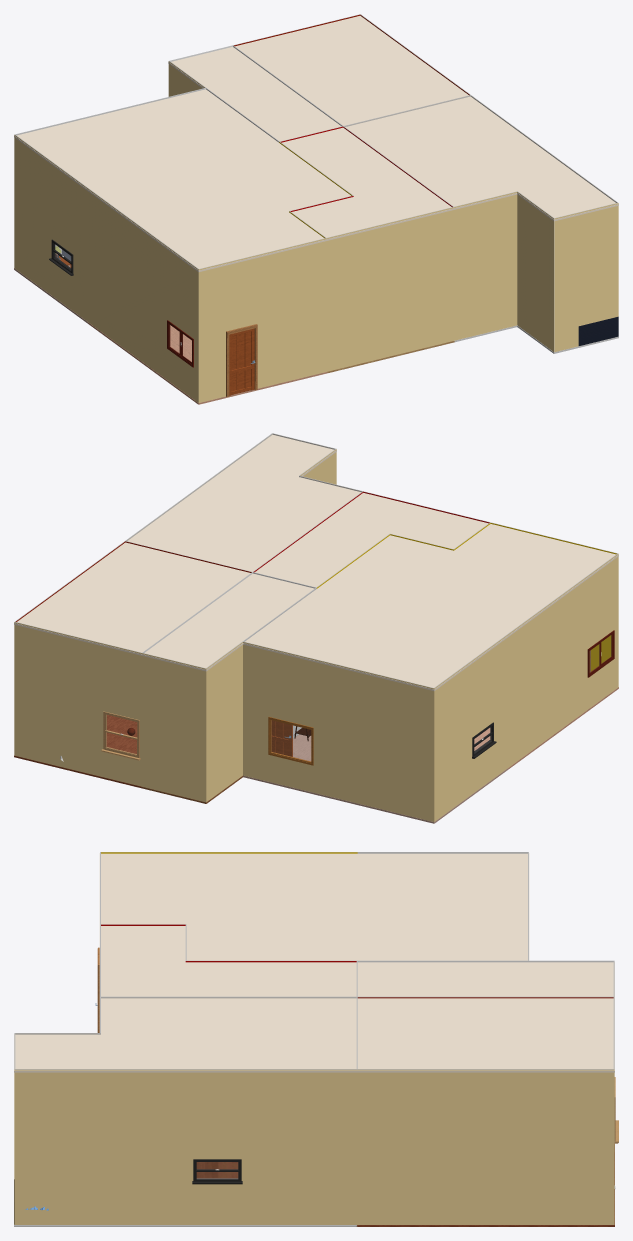
Rendered from ProcTHOR-Train-90.glb.
The picture shows the model from 3 angles, top to bottom: view 1: azimuth 30°, elevation 25°; view 2: azimuth 150°, elevation 25°; view 3: azimuth 270°, elevation 25°; orthographic projection. The views are drawn at different scales.
Parts seen in each view (by area): view 1: Ceiling#room|8|c, WallInside#wall|exterior|4.32|12.95|8.63|12.95, Ceiling#room|6|c, WallInside#wall|exterior|8.63|12.95|12.95|12.95, WallInside#wall|exterior|12.95|6.48|12.95|12.95, Ceiling#room|9|c, Ceiling#room|4|c, WallInside#wall|exterior|12.95|2.16|12.95|6.48, Ceiling#room|7|c, WallInside#wall|exterior|2.16|12.95|4.32|12.95, WallInside#wall|exterior|0.00|15.11|2.16|15.11, Ceiling#room|5|c (+5 smaller); view 2: WallInside#wall|exterior|6.48|2.16|12.95|2.16, Ceiling#room|8|c, Ceiling#room|6|c, WallInside#wall|exterior|0.00|0.00|4.32|0.00, Ceiling#room|9|c, WallInside#wall|exterior|12.95|6.48|12.95|12.95, Ceiling#room|4|c, WallInside#wall|exterior|12.95|2.16|12.95|6.48, Ceiling#room|7|c, WallInside#wall|exterior|4.32|0.00|6.48|0.00, Ceiling#room|5|c, WallInside#wall|exterior|6.48|0.00|6.48|2.16 (+7 smaller); view 3: WallInside#wall|exterior|0.00|6.48|0.00|15.11, WallInside#wall|exterior|0.00|0.00|0.00|6.48, Ceiling#room|8|c, Ceiling#room|6|c, Ceiling#room|4|c, Ceiling#room|9|c, Ceiling#room|7|c, Ceiling#room|5|c, Window_Hung_48x24, Floor#room|6|f, Dining_Table_223_1, Floor#room|4|f (+5 smaller).
Part boxes in pixels (x1,y1,x2,y2): Ceiling#room|8|c: (87, 143, 350, 272); WallInside#wall|exterior|4.32|12.95|8.63|12.95: (326, 207, 454, 371); Ceiling#room|6|c: (345, 96, 618, 221); WallInside#wall|exterior|8.63|12.95|12.95|12.95: (198, 238, 326, 402); WallInside#wall|exterior|12.95|6.48|12.95|12.95: (88, 188, 198, 402); Ceiling#room|9|c: (14, 89, 278, 190); Ceiling#room|4|c: (235, 15, 468, 126); WallInside#wall|exterior|12.95|2.16|12.95|6.48: (14, 134, 88, 321); Ceiling#room|7|c: (282, 127, 454, 240); WallInside#wall|exterior|2.16|12.95|4.32|12.95: (453, 191, 517, 340); WallInside#wall|exterior|0.00|15.11|2.16|15.11: (554, 203, 618, 352); Ceiling#room|5|c: (168, 47, 340, 141); WallInside#wall|exterior|6.48|2.16|12.95|2.16: (243, 641, 434, 821); Ceiling#room|8|c: (318, 524, 618, 636); Ceiling#room|6|c: (127, 434, 362, 571); WallInside#wall|exterior|0.00|0.00|4.32|0.00: (14, 622, 142, 786); Ceiling#room|9|c: (243, 588, 507, 691); WallInside#wall|exterior|12.95|6.48|12.95|12.95: (508, 553, 618, 767); Ceiling#room|4|c: (14, 542, 250, 655); WallInside#wall|exterior|12.95|2.16|12.95|6.48: (434, 634, 507, 821); Ceiling#room|7|c: (255, 493, 488, 588); WallInside#wall|exterior|4.32|0.00|6.48|0.00: (142, 653, 206, 802); Ceiling#room|5|c: (141, 573, 316, 671); WallInside#wall|exterior|6.48|0.00|6.48|2.16: (206, 642, 242, 801); WallInside#wall|exterior|0.00|6.48|0.00|15.11: (14, 1069, 357, 1224); WallInside#wall|exterior|0.00|0.00|0.00|6.48: (357, 1069, 614, 1224); Ceiling#room|8|c: (99, 853, 357, 961); Ceiling#room|6|c: (14, 998, 356, 1072); Ceiling#room|4|c: (356, 998, 614, 1072); Ceiling#room|9|c: (356, 853, 529, 960); Ceiling#room|7|c: (99, 926, 357, 998); Ceiling#room|5|c: (357, 962, 614, 998); Window_Hung_48x24: (192, 1159, 242, 1184); Floor#room|6|f: (14, 1225, 357, 1226); Dining_Table_223_1: (196, 1162, 238, 1178); Floor#room|4|f: (356, 1152, 614, 1226).
Size of what is drawn, in the model's own units: 13.19 by 4.38 by 15.25.
Materials: 328 (128 with a texture image).
